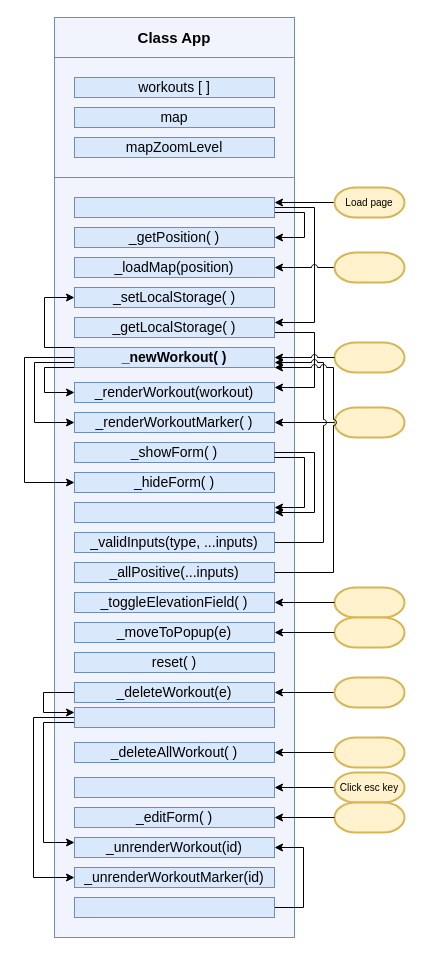
The diagram is 423 pixels wide and 955 high, and some of its shapes have lost their labels. The centre of each missing label's shape, as x and y in pixels:
_deleteWorkoutById(id): (174,717)
_escCloseForm(e): (174,787)
_resetInput( ): (174,512)
_sortWorkout(e): (174,907)
Change input: (369,602)
Click delete: (369,692)
Click delete all: (369,752)
Click edit key: (369,817)
Click on map: (369,422)
Click workout: (369,632)
constructor( ): (174,207)
Receive position: (369,267)
Submit form: (369,357)
